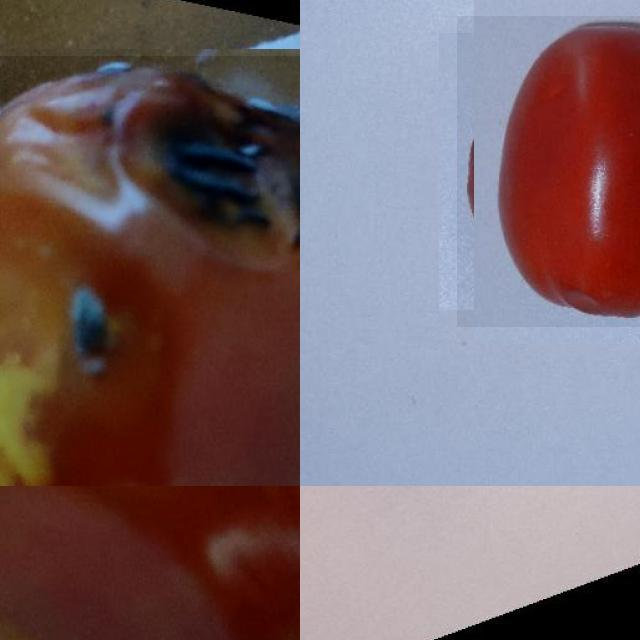Fresh Tomato: (456, 15, 640, 327)
Rotten Tomato: (0, 55, 300, 486), (0, 486, 300, 640)
